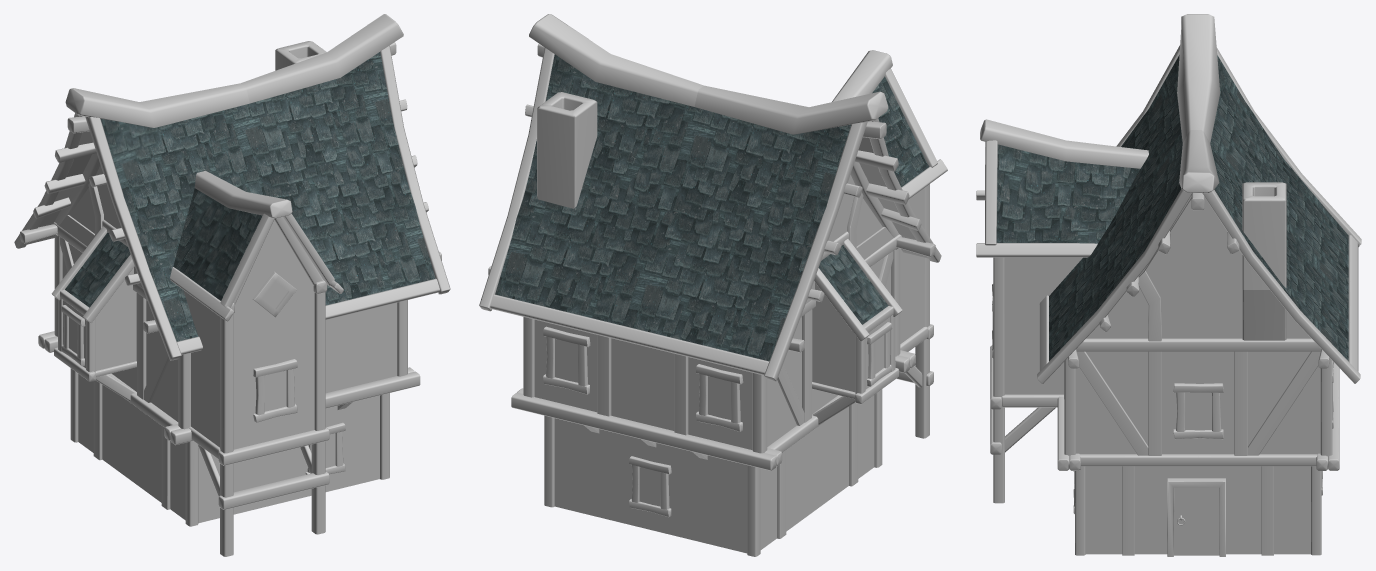
The model's file is house22.fbx.
The picture shows the model from 3 angles, left to right: view 1: azimuth 30°, elevation 25°; view 2: azimuth 150°, elevation 25°; view 3: azimuth 270°, elevation 25°; orthographic projection. The views are drawn at different scales.
Parts seen in each view (by area): view 1: house22; view 2: house22; view 3: house22.
Part boxes in pixels (box(x1,y1,x2,y2)): house22: box(14, 14, 450, 556); house22: box(479, 14, 947, 556); house22: box(976, 14, 1361, 556).
Bounding box in the file's own units: 1074 × 1258 × 1060.
